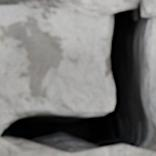brick: (0, 140, 155, 155)
broken_brick: (0, 0, 138, 16), (142, 0, 155, 17)
crack: (0, 0, 155, 154)
